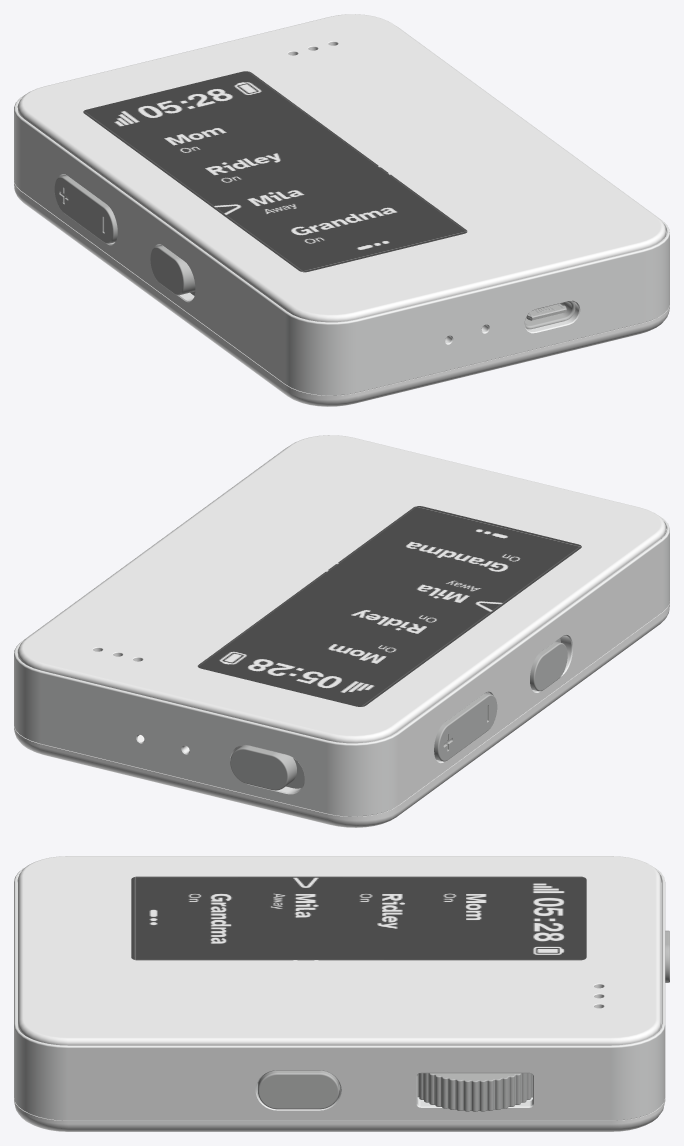
File: stripped_down_glb3.glb
3 renders of one model, top to bottom at view 1: azimuth 30°, elevation 25°; view 2: azimuth 150°, elevation 25°; view 3: azimuth 270°, elevation 25°, orthographic. The views are drawn at different scales.
Parts seen in each view (by area): view 1: part_n3d (×6), part_n3d2; view 2: part_n3d (×5), part_n3d2 (×2); view 3: part_n3d (×5), part_n3d2.
Boxes of the visible parts, <box> form: part_n3d (×6): <box>14,14,669,406</box>; part_n3d2: <box>83,71,467,272</box>; part_n3d (×5): <box>14,435,669,827</box>; part_n3d2 (×2): <box>197,506,581,790</box>; part_n3d (×5): <box>14,856,665,1131</box>; part_n3d2: <box>131,876,586,960</box>.
Size of the model in its own units: 0.069 by 0.0154 by 0.0967.
Materials: 9 (1 with a texture image).
